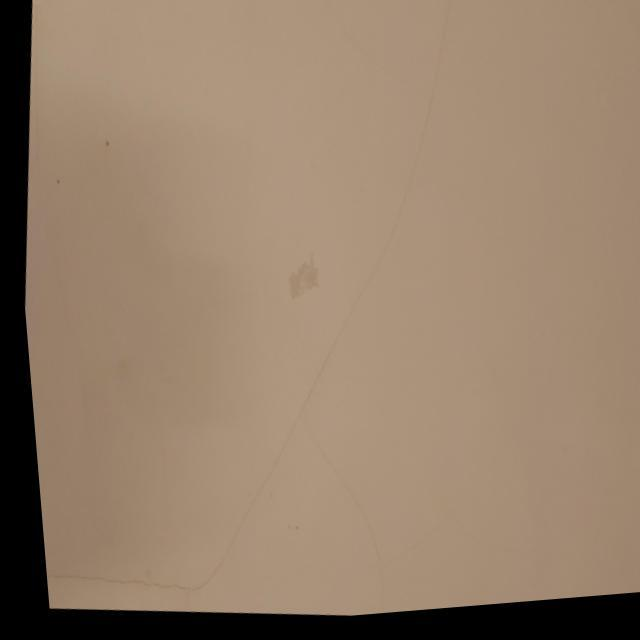Crack: (55, 330, 398, 598), (333, 1, 452, 327)
